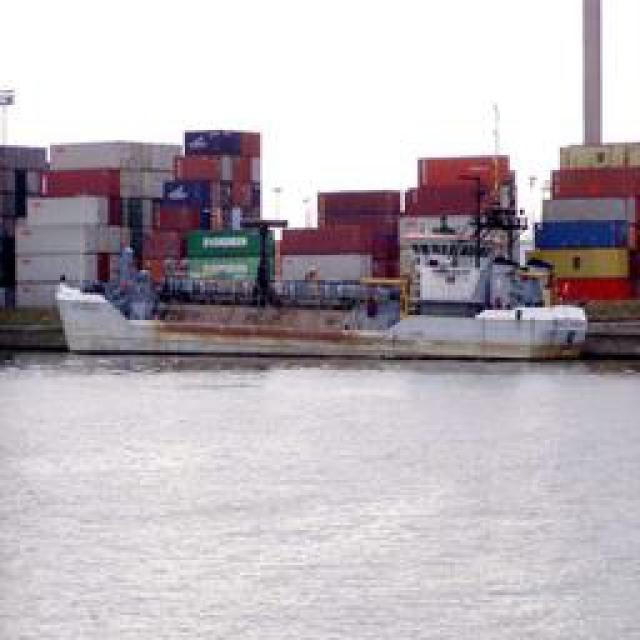Ship: (32, 290, 590, 365)
